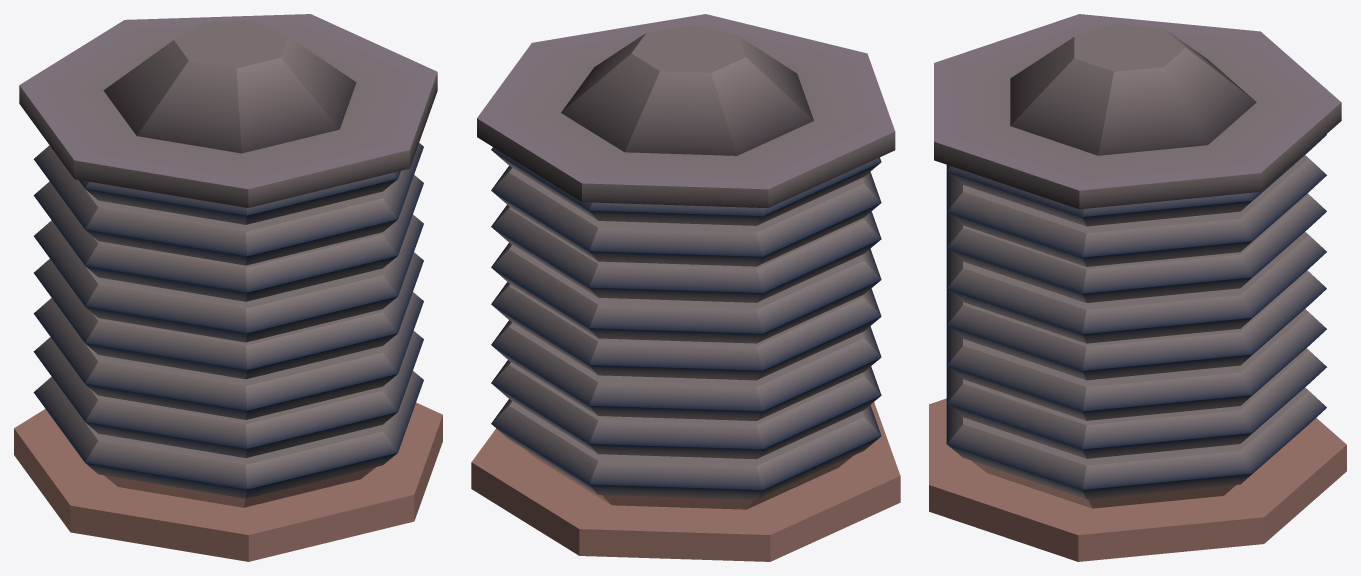
The model's file is InterestPoint 1.fbx.
3 renders of one model, left to right at view 1: azimuth 30°, elevation 25°; view 2: azimuth 150°, elevation 25°; view 3: azimuth 270°, elevation 25°, orthographic.
Visible parts, largest first — view 1: Circle.011; view 2: Circle.011; view 3: Circle.011.
Boxes of the visible parts, bbox=[...] form: Circle.011: bbox=[14, 14, 442, 561]; Circle.011: bbox=[471, 14, 900, 561]; Circle.011: bbox=[929, 14, 1346, 561].
Bounding box in the file's own units: 316 × 344 × 308.
